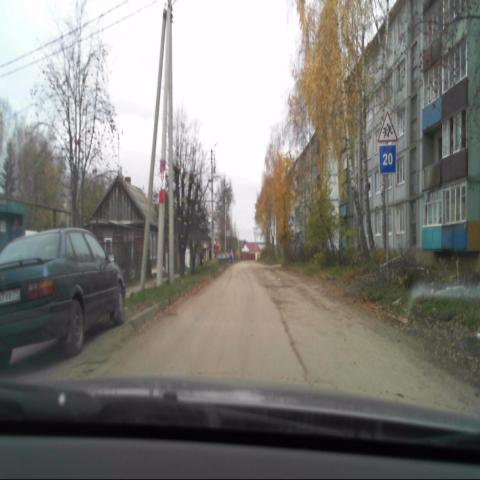6_2: (378, 144, 396, 173)
